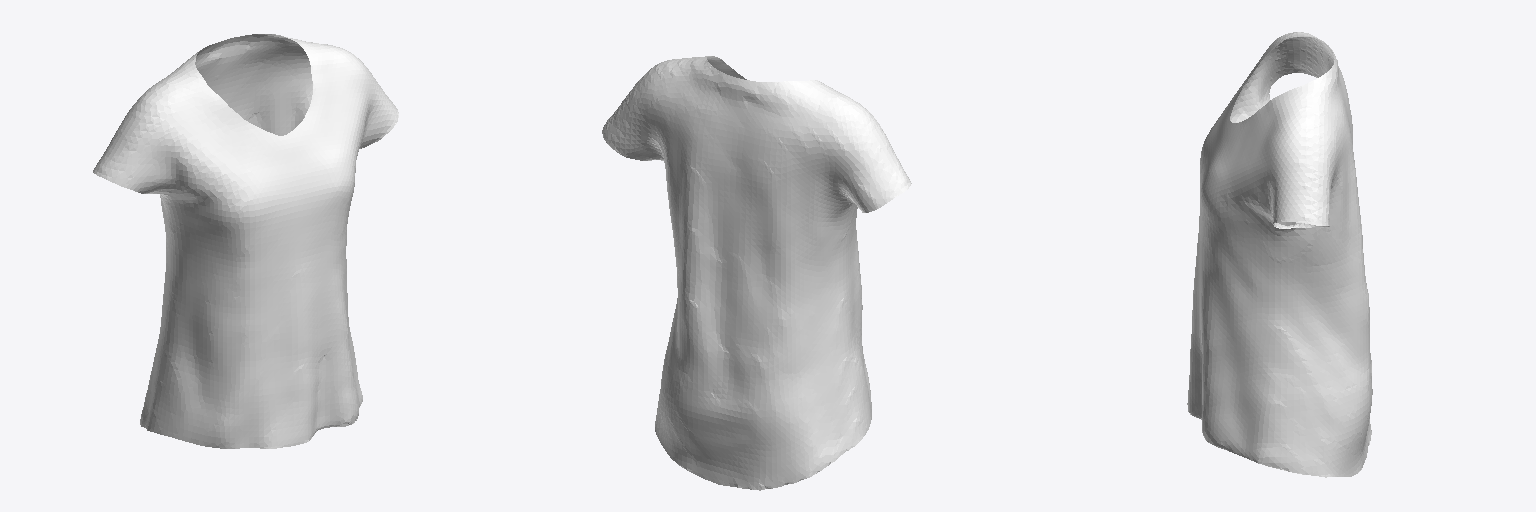
Rendered from [125][Woman][Tops][Pink_T-Shirt][Edited].obj.
The picture shows the model from 3 angles: view 1: azimuth 30°, elevation 25°; view 2: azimuth 150°, elevation 25°; view 3: azimuth 270°, elevation 25°; orthographic projection.
Bounding box in the file's own units: 54.2 × 68.71 × 29.05.